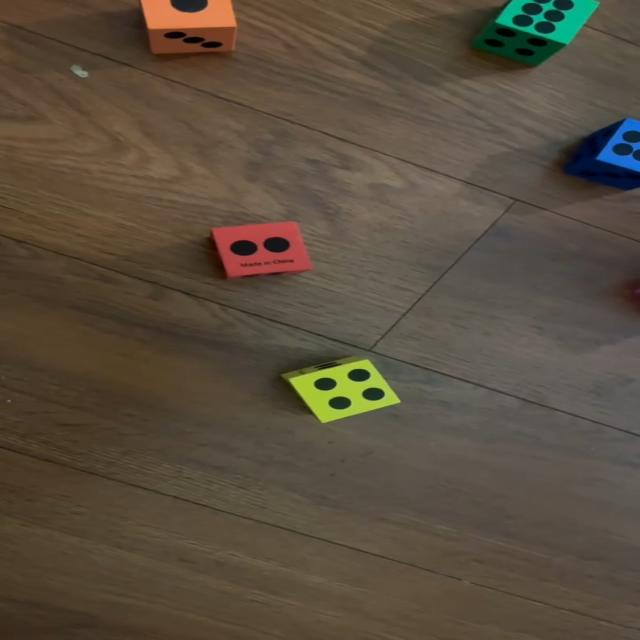blue_block: (567, 118, 640, 191)
red_block: (215, 220, 312, 282)
